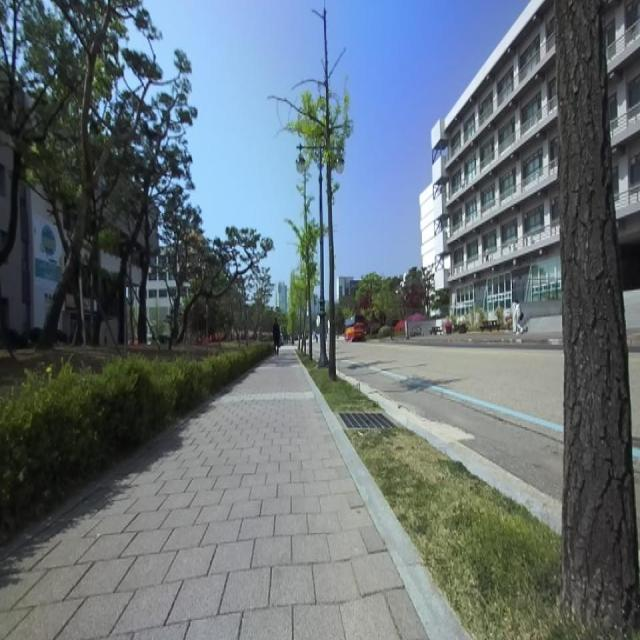sidewalk: (0, 347, 426, 639)
